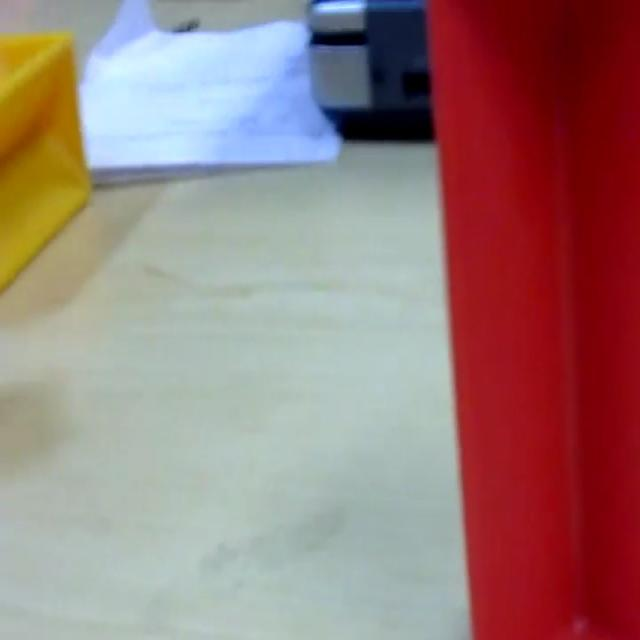red_block: (424, 1, 638, 636)
yellow_block: (0, 28, 92, 293)
